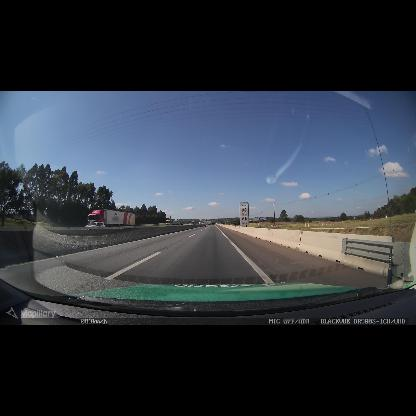I-SA: (239, 203, 248, 207)
R-19: (239, 207, 249, 225)
